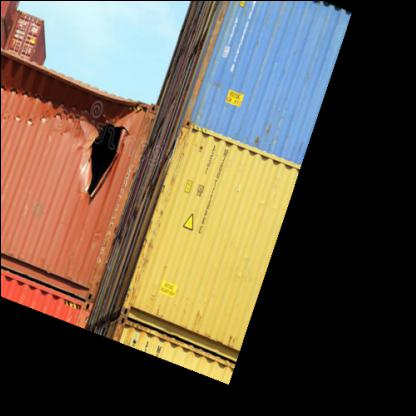Damage: (66, 87, 136, 210), (1, 57, 83, 103)
